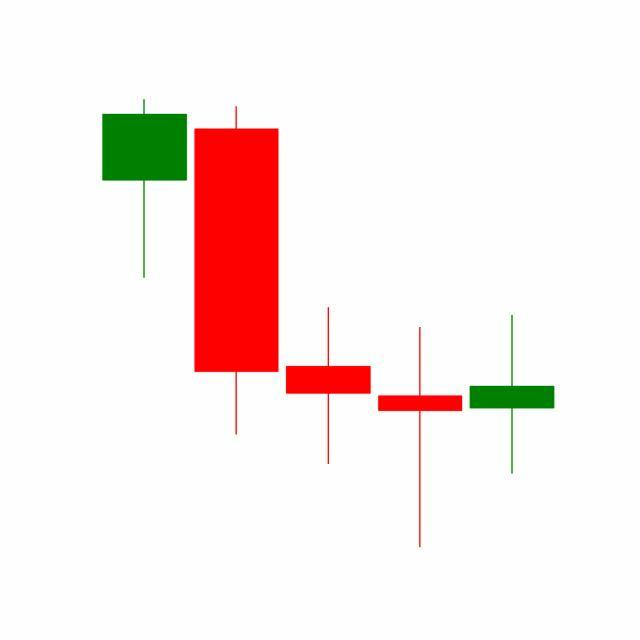Upside-Downside Gap Three Methods: (280, 304, 555, 549)
